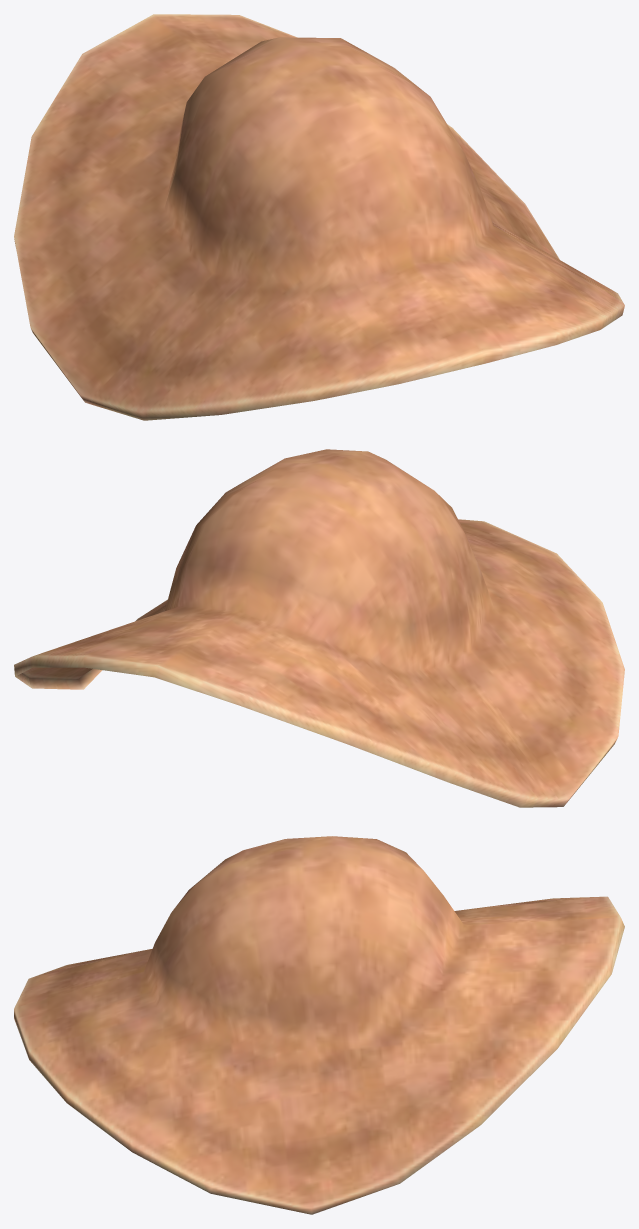
The model's file is rider-helmet-slice-heavycavalry.glb.
The picture shows the model from 3 angles, top to bottom: view 1: azimuth 30°, elevation 25°; view 2: azimuth 150°, elevation 25°; view 3: azimuth 270°, elevation 25°; orthographic projection. The views are drawn at different scales.
Size of the model in its own units: 0.478 by 0.2622 by 0.5544.
Materials: 1 (1 with a texture image).
